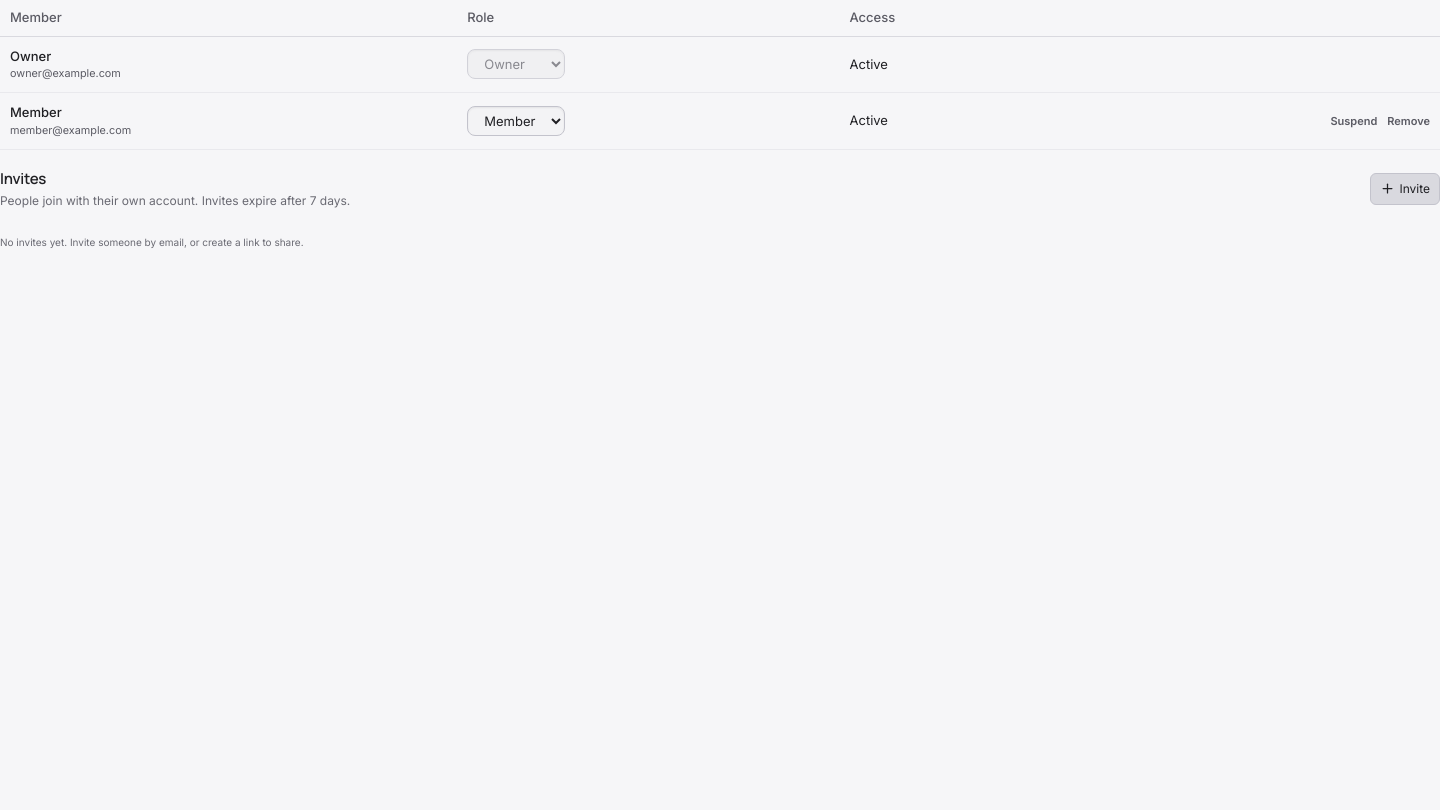
Test: server administration in Settings › invites by email with a role, and falls back to a link when mail is off
The image size is (1440, 810).
Click the button "Invite" at (1405, 189), box [1370,173,1439,205]
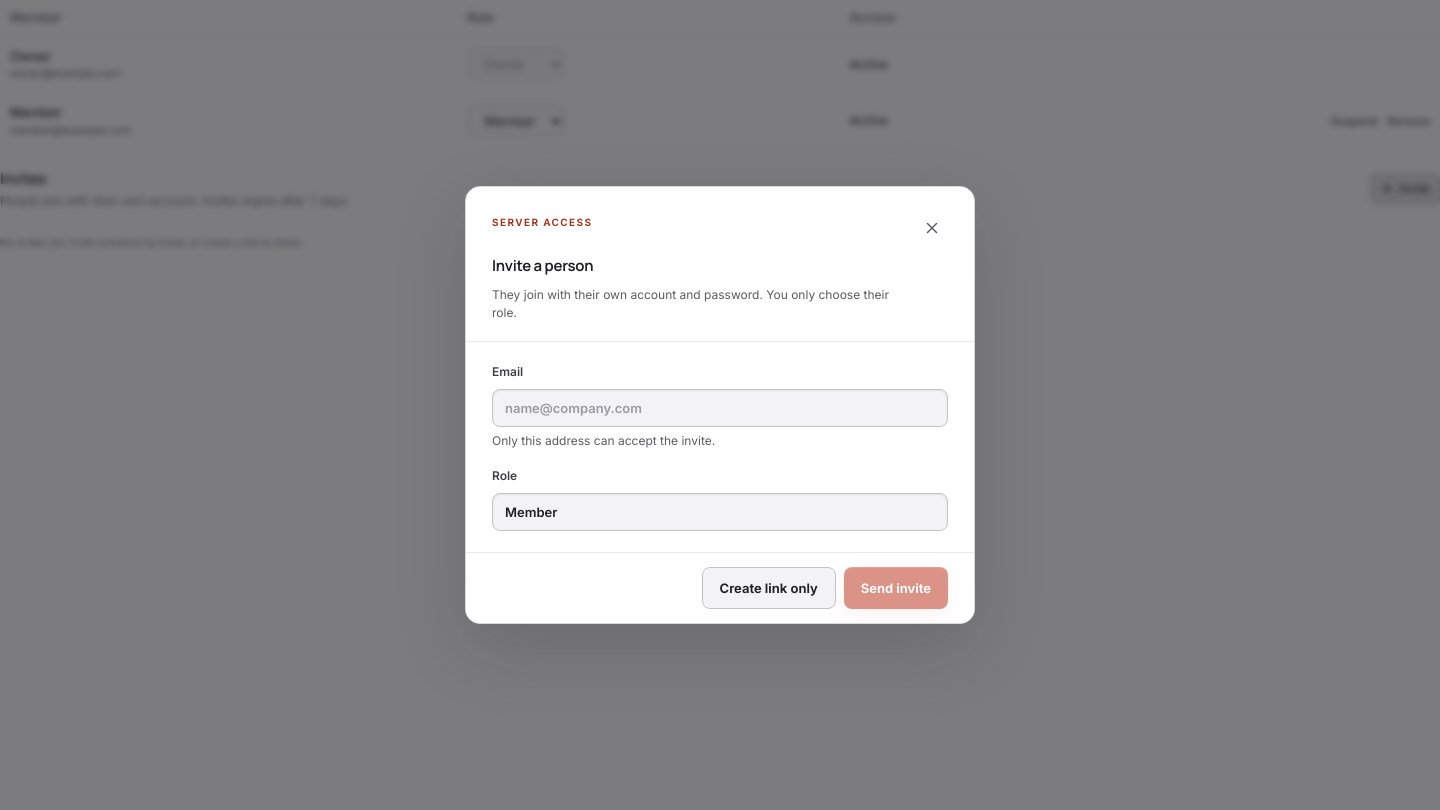
Type "sam@example.com" into the field labelled "Email Only this address can accept the invite." at (720, 408), box [492,389,948,427]
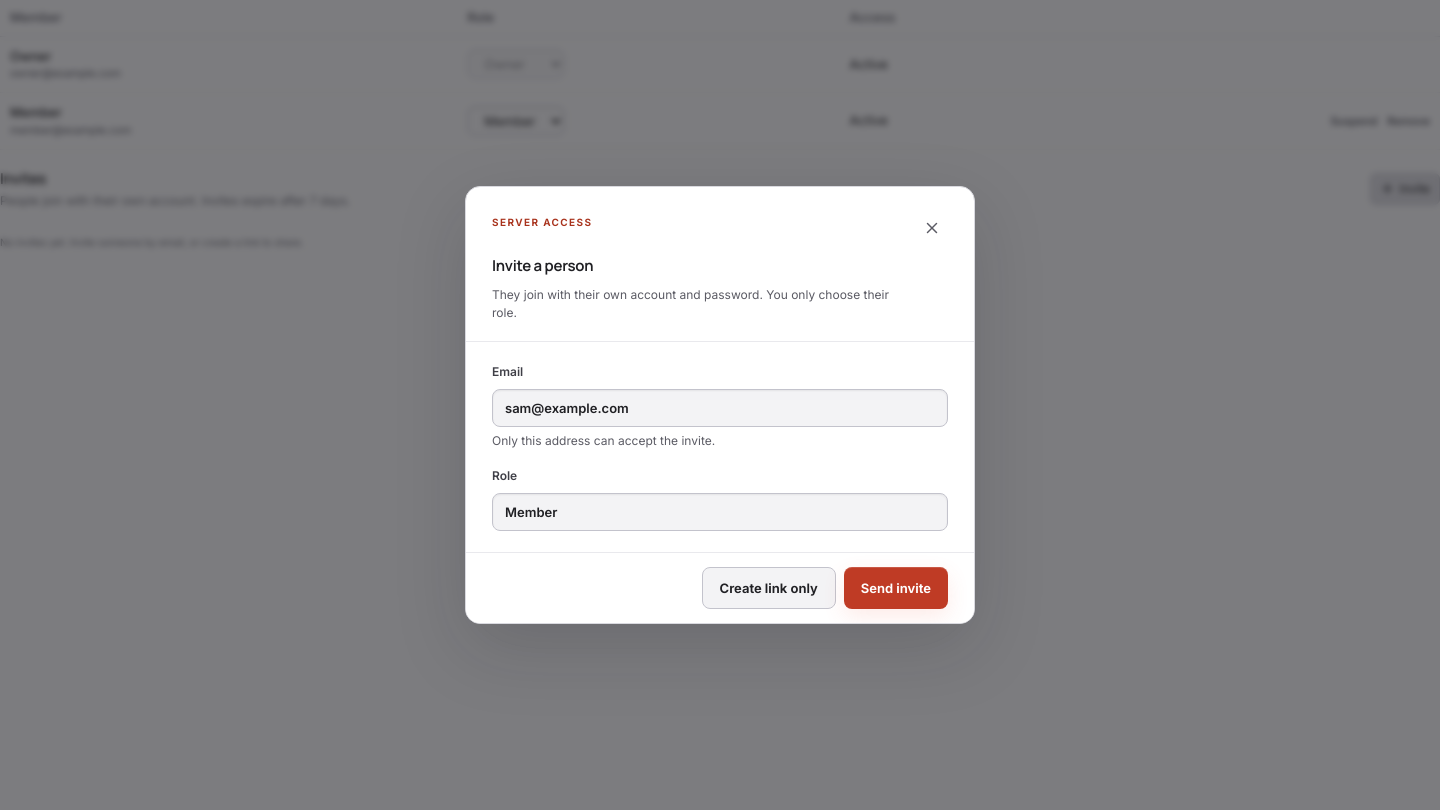
Select "Admin" in the dropdown labelled "Role" at (720, 512), box [492,493,948,531]
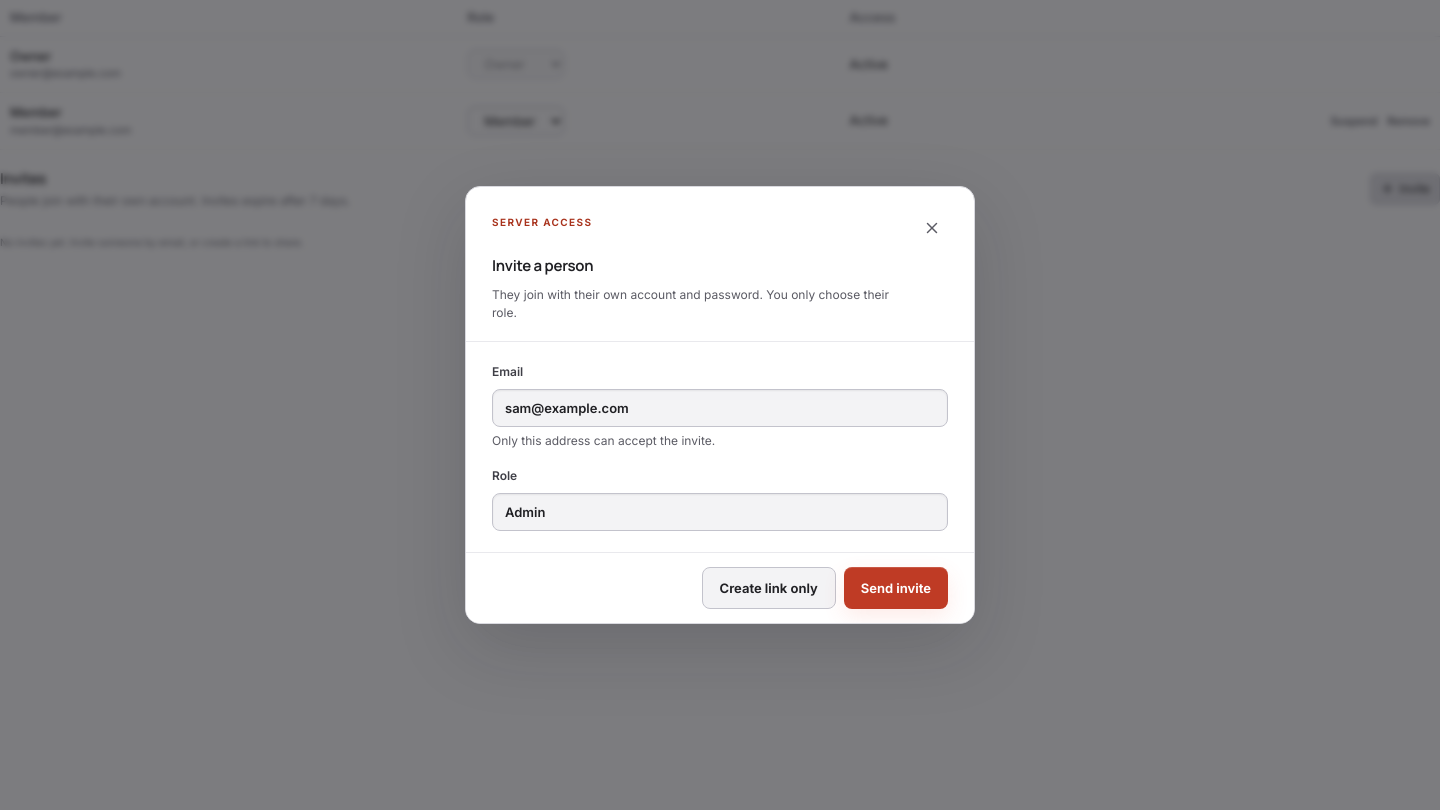
Click the button "Send invite" at (896, 588), box [844,567,948,609]
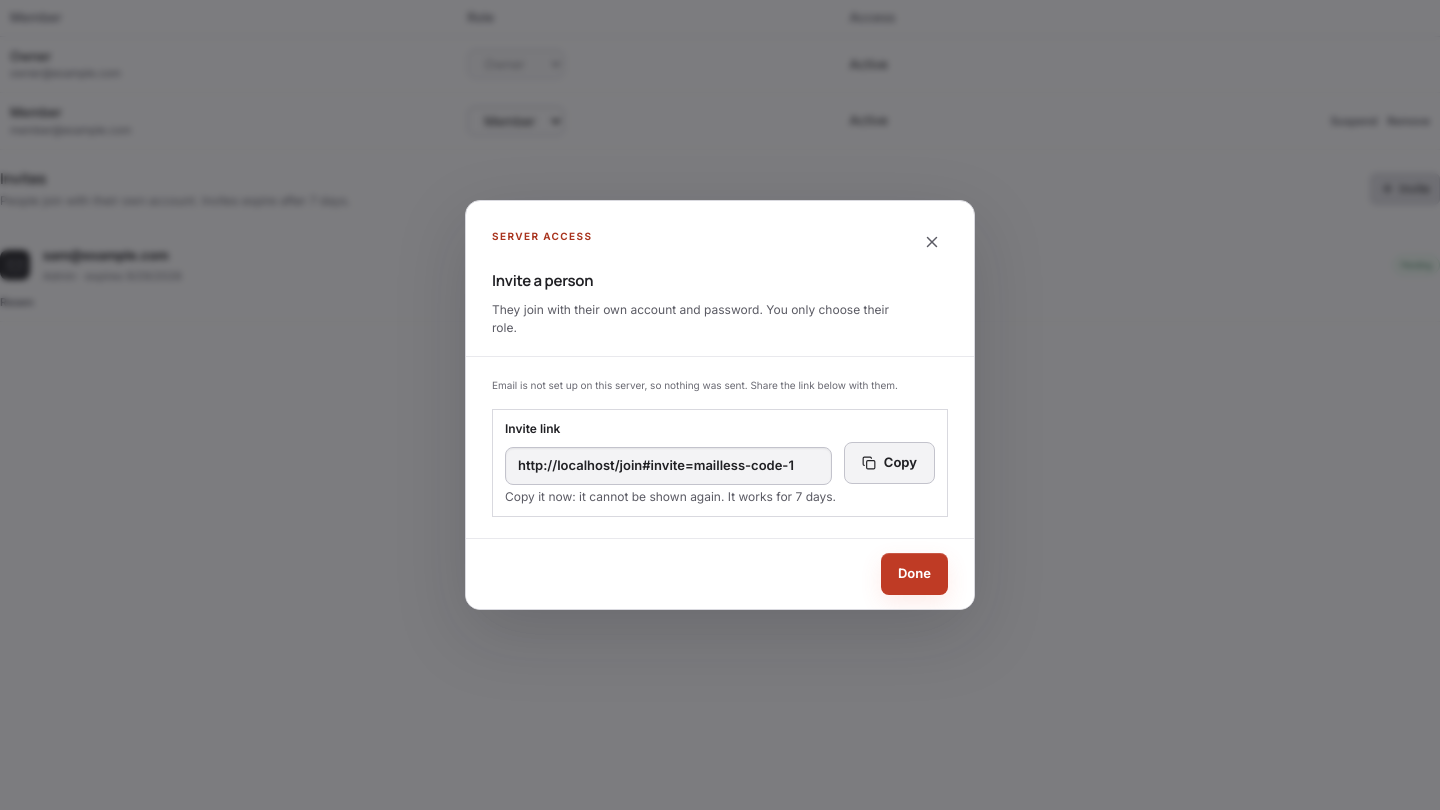
Check: the text "Email is not set up on this server" is shown, box [492,379,898,391]
